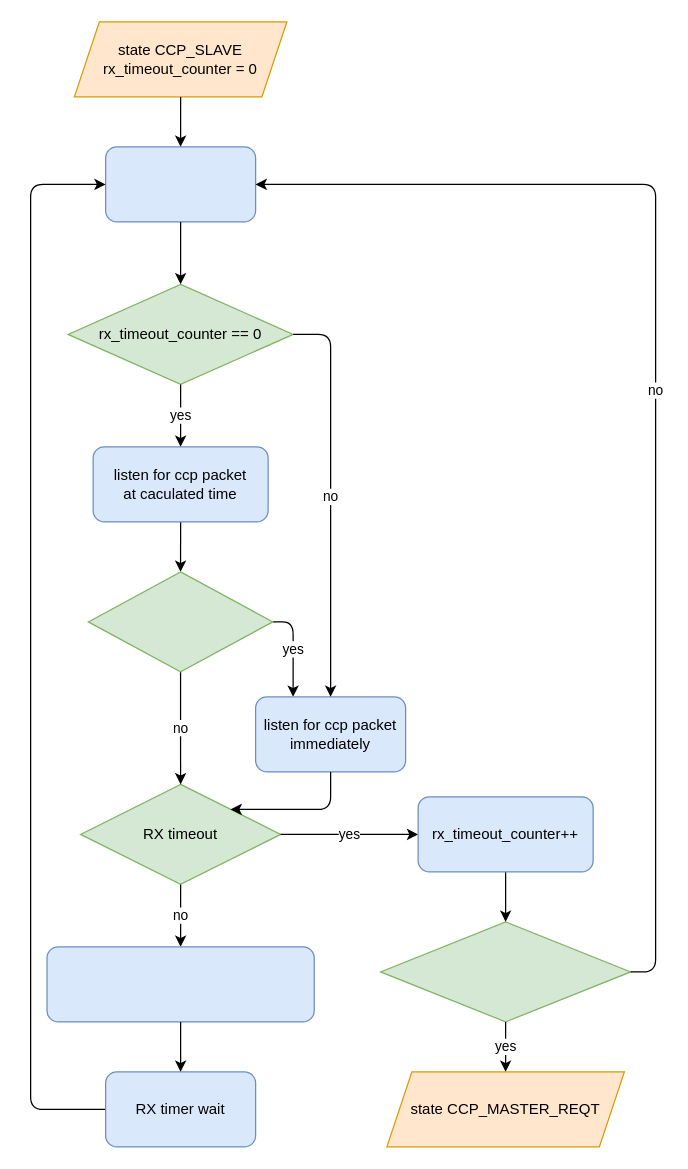
The diagram is 688 pixels wide and 1169 high, and some of its shapes have lost their labels. The centre of each missing label's shape, as x and y in pixels:
RX error: the point at 180,621
RX timer callback: the point at 180,184
rx_timeout_counter > thresh: the point at 505,971
schedule the next RX timer event rx_timeout_counter = 0: the point at 180,984
